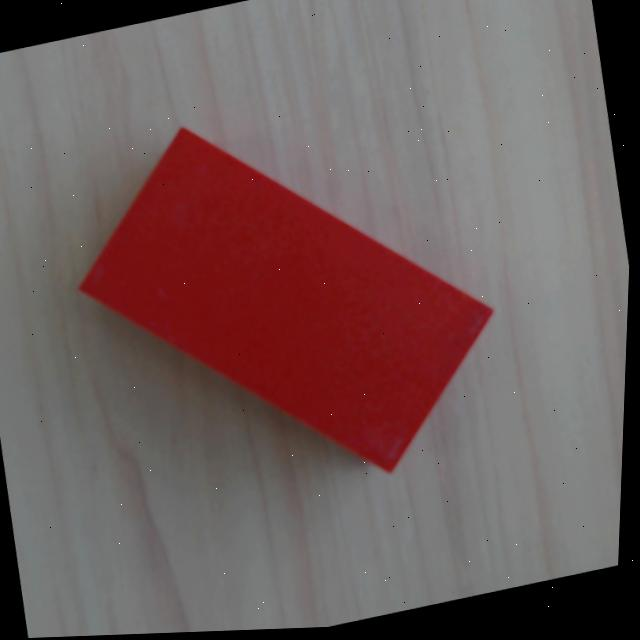Balok-Merah-1005025: (78, 122, 493, 475)
